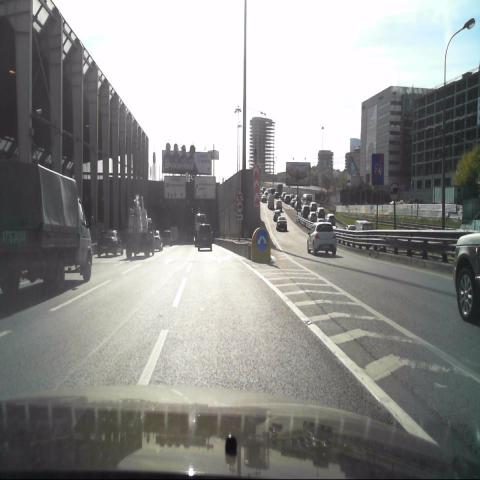5_4: (372, 152, 384, 184)
